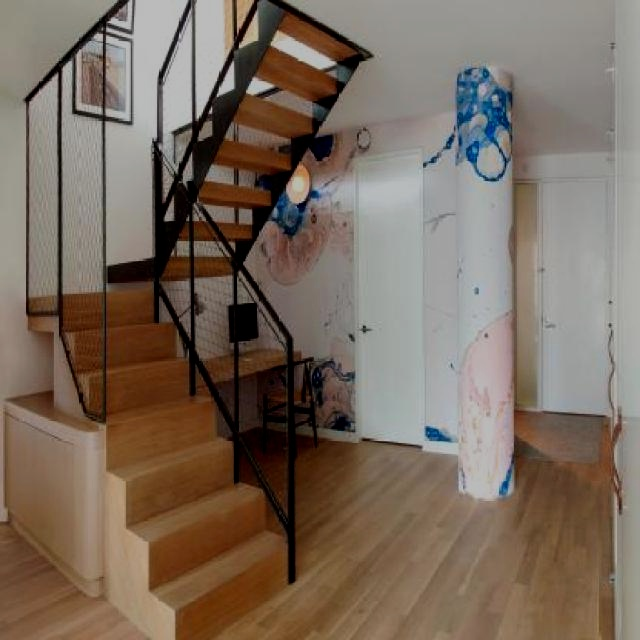stair: (1, 246, 290, 639), (137, 34, 358, 245)
